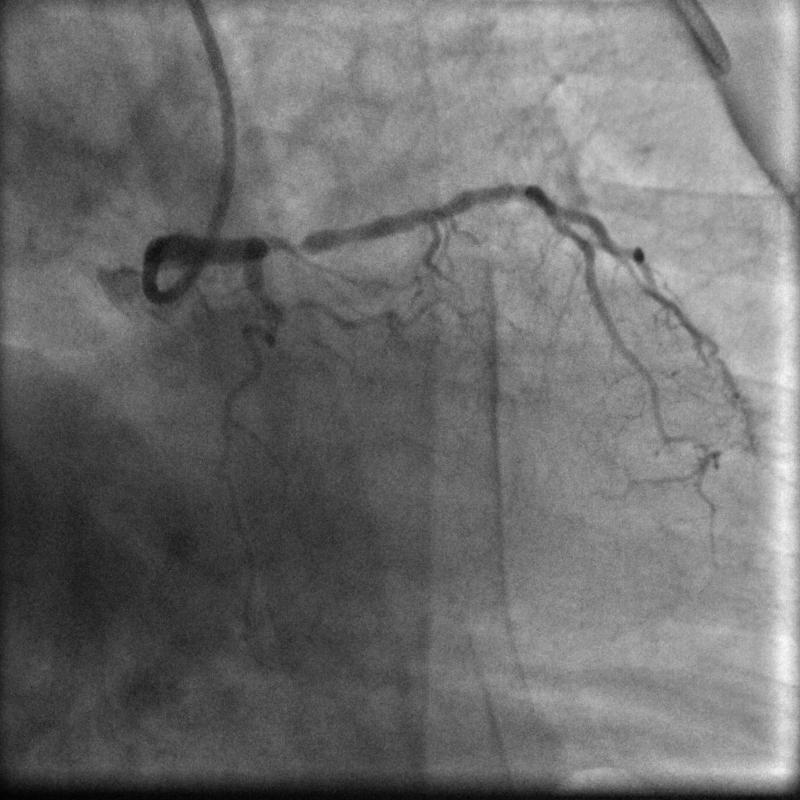Stenosis: (261, 223, 322, 262)
